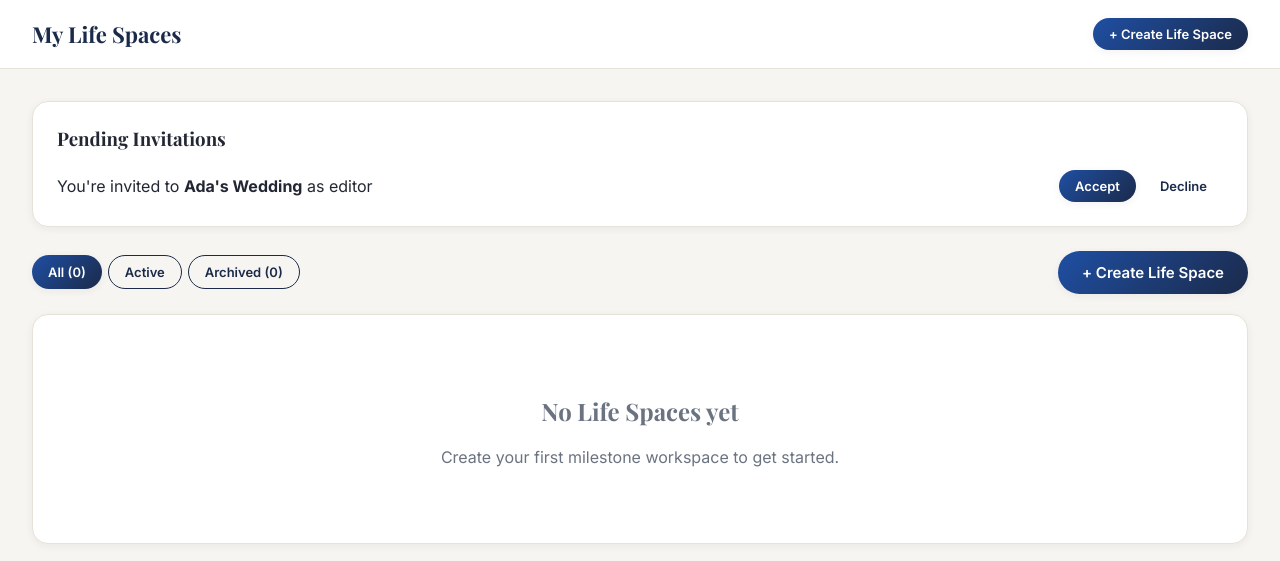
Test: LifeSpaces — pending invitations › accepting refreshes life spaces, selects the new one, and removes it from the pending list
Expected: the text "Ada's Wedding" is shown, [184, 176, 302, 196]
Click the button "Accept".
click(1098, 186)  # box [1059, 170, 1136, 202]
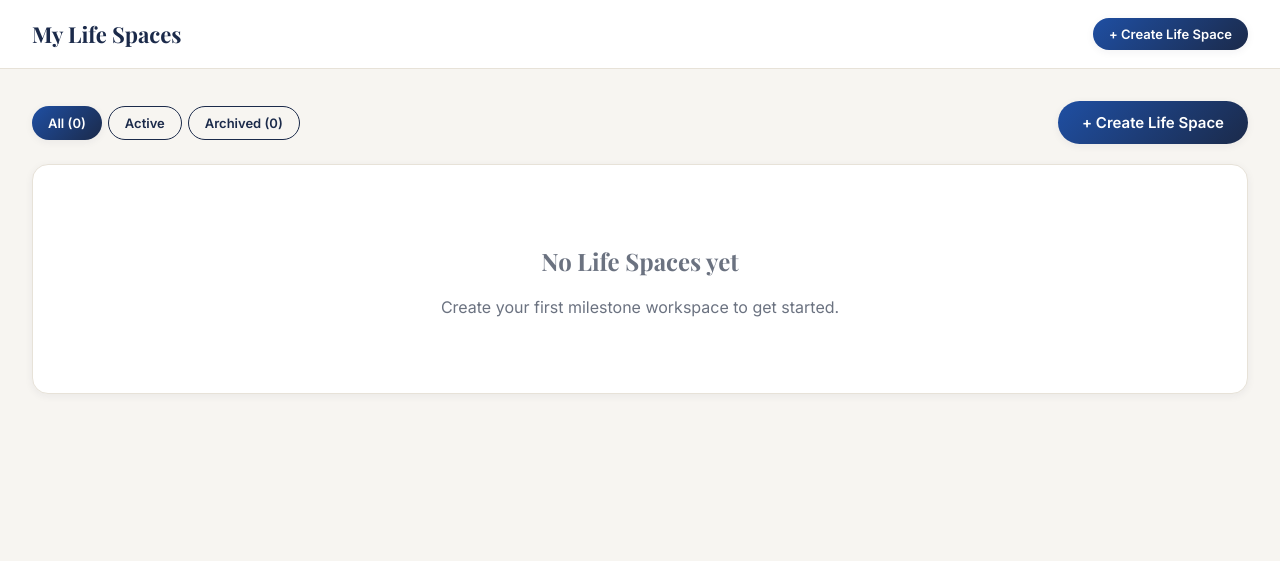
Expected: the text "Ada's Wedding" is gone
